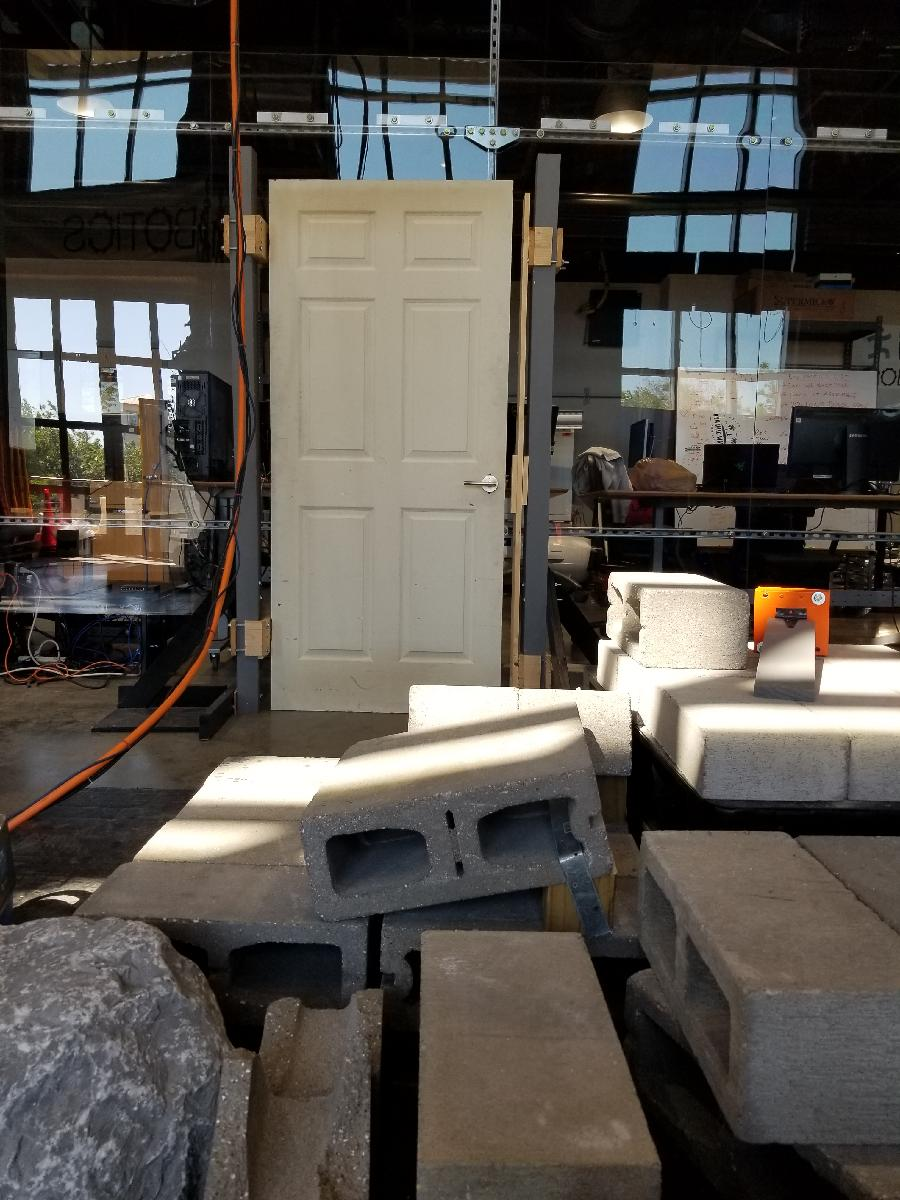door: (264, 173, 516, 723)
doorHandle: (463, 474, 508, 505)
